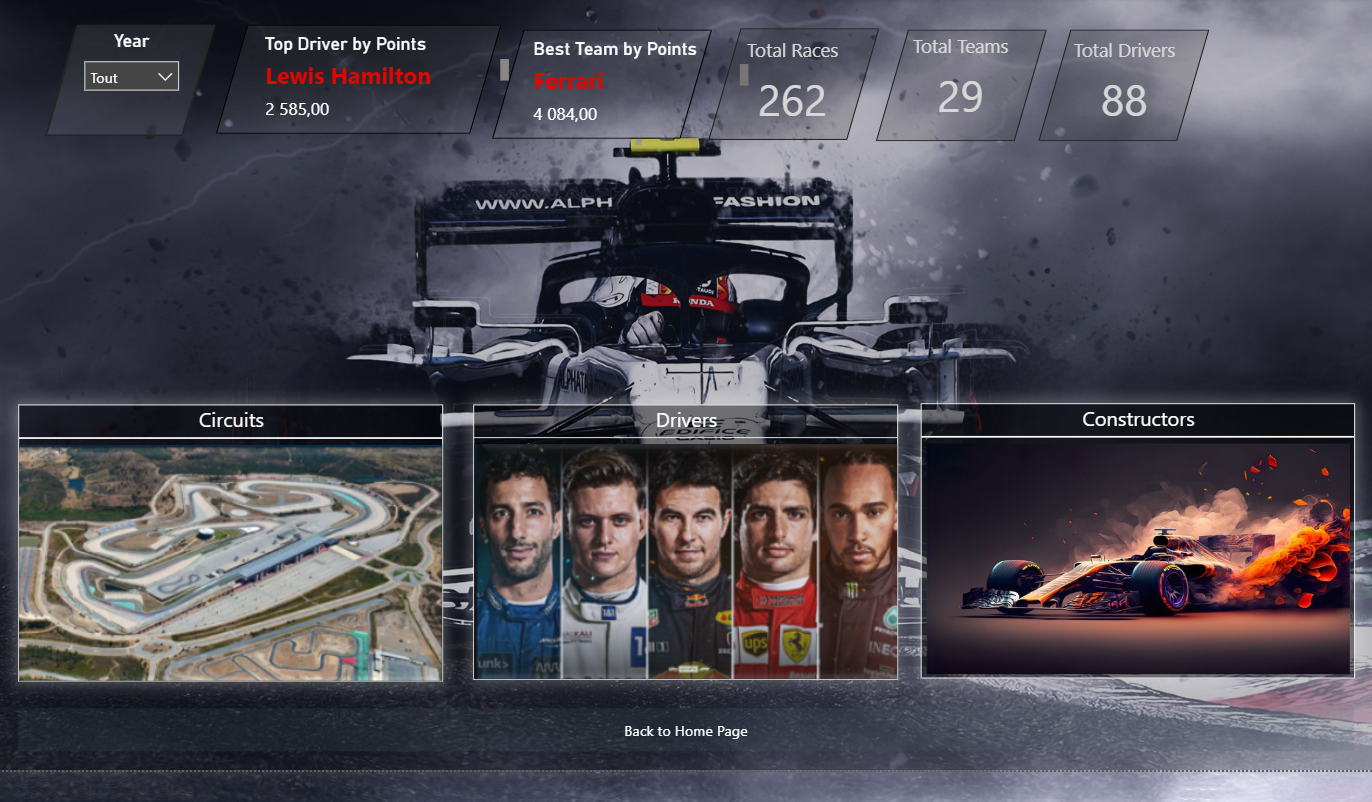

What the dashboard file says about the page in this screenshot:
{"tool":"powerbi","page":{"name":"Options","canvas":[1280,720],"ordinal":1},"visuals":[{"type":"image","title":"Drivers","box":[442.5,378.8,395,256.2],"z":0},{"type":"image","title":"Constructors","box":[858.8,377.5,403.8,256.2],"z":1000},{"type":"actionButton","title":"Back to Home Page","box":[20,661.2,1242.5,40],"z":2000},{"type":"image","title":"Circuits","box":[20,378.8,395,257.5],"z":3000},{"type":"shape","box":[203.4,26.1,266,101.7],"z":4000},{"type":"shape","box":[460.2,30,204.7,101.7],"z":5000},{"type":"multiRowCard","title":"Top Driver by Points","fields":{"Values":["aly6060 fact_result.Driver's Name","Sum(aly6060 fact_result.points)"]},"box":[243.8,33.9,237.3,91.3],"z":6000},{"type":"multiRowCard","title":"Best Team by Points","fields":{"Values":["Sum(aly6060 fact_result.points)","aly6060 fact_result.aly6060.dim_constructor.name"]},"box":[494.1,37.8,209.9,88.7],"z":7000},{"type":"card","title":"Total Races","fields":{"Values":["aly6060 fact_result.No_of_Races"]},"box":[680.3,36.8,119.7,93.4],"z":8000},{"type":"card","title":"Total Teams","fields":{"Values":["aly6060 fact_result.Total_constructors"]},"box":[836.8,34.2,118.4,93.4],"z":9000},{"type":"card","title":"Total Drivers","fields":{"Values":["aly6060 fact_result.Total_Drivers"]},"box":[989.5,36.8,118.4,93.4],"z":10000},{"type":"shape","box":[661.8,28.9,159.2,103.9],"z":11000},{"type":"shape","box":[817.1,30.3,159.2,103.9],"z":12000},{"type":"shape","box":[968.4,30.3,159.2,103.9],"z":13000},{"type":"slicer","title":"Year","fields":{"Values":["aly6060 fact_result.aly6060.dim_race.date.Variation.Date Hierarchy.Year"]},"box":[70.4,30,108.2,280.3],"z":15000},{"type":"shape","box":[44.3,26.1,159.1,104.3],"z":16000}]}

Visuals, with their boxes on the page's 1280x720 design canvas (x1, y1, x2, y2). These are canvas units, not pixel positions in the 1372x802 screenshot, which may show the page scaled, cropped or inside an application window:
"Drivers" image: [442, 379, 838, 635]
"Constructors" image: [859, 378, 1263, 634]
"Back to Home Page" actionButton: [20, 661, 1262, 701]
"Circuits" image: [20, 379, 415, 636]
shape: [203, 26, 469, 128]
shape: [460, 30, 665, 132]
"Top Driver by Points" multiRowCard: [244, 34, 481, 125]
"Best Team by Points" multiRowCard: [494, 38, 704, 126]
"Total Races" card: [680, 37, 800, 130]
"Total Teams" card: [837, 34, 955, 128]
"Total Drivers" card: [990, 37, 1108, 130]
shape: [662, 29, 821, 133]
shape: [817, 30, 976, 134]
shape: [968, 30, 1128, 134]
"Year" slicer: [70, 30, 179, 310]
shape: [44, 26, 203, 130]
